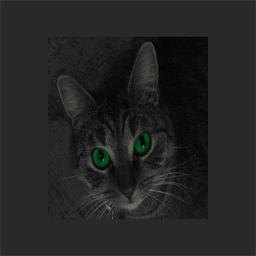catnose: (116, 178, 139, 204)
